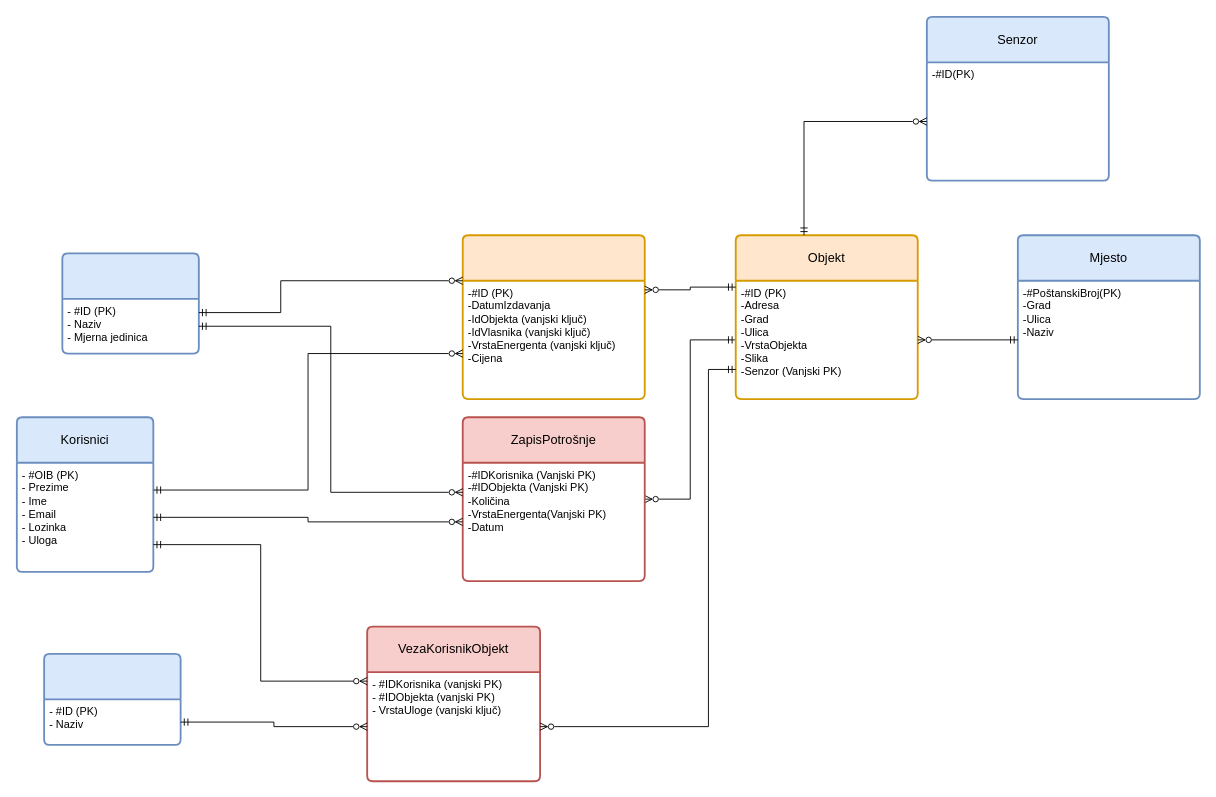
Image size: 1216x797. Some labels were removed from this diagram. Each missing label, with the box of its shape:
Energenti: (61, 252, 199, 354)
Računi: (461, 234, 645, 399)
Uloga: (43, 652, 181, 745)
